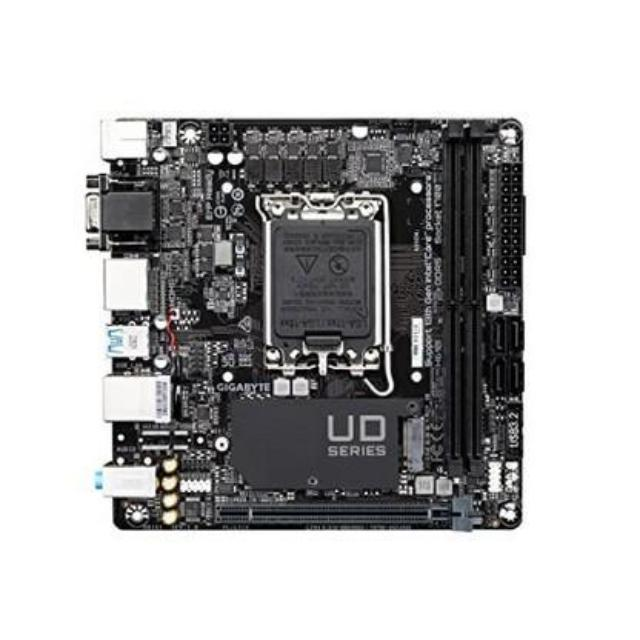Mainboard: (82, 96, 533, 544)
